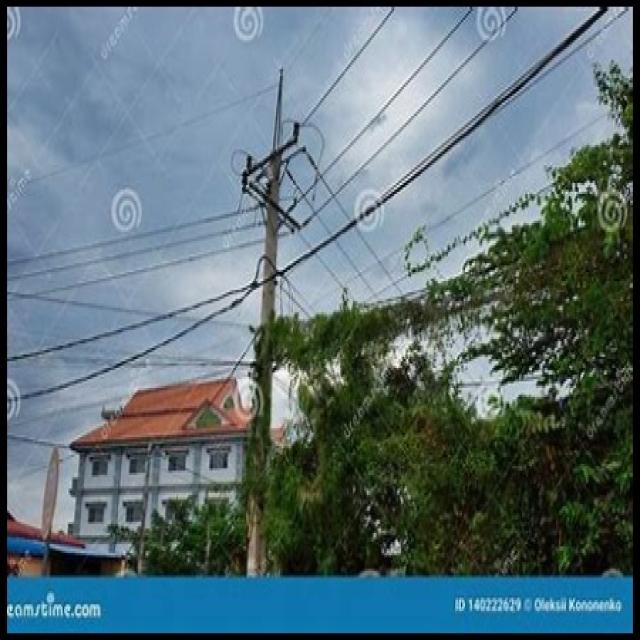critical vegetation: (263, 262, 636, 410)
